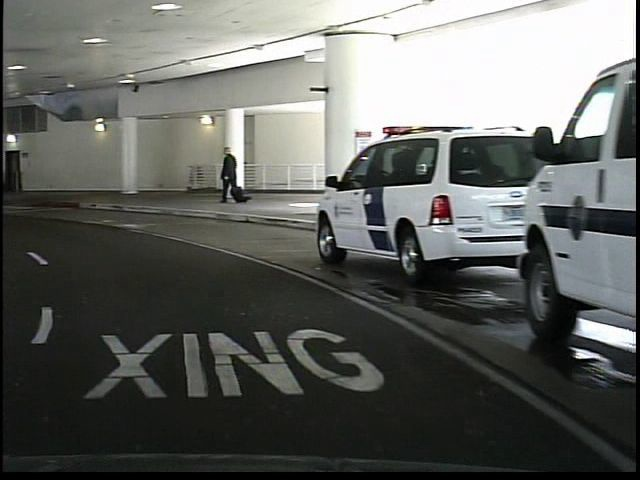person: (214, 142, 239, 203)
